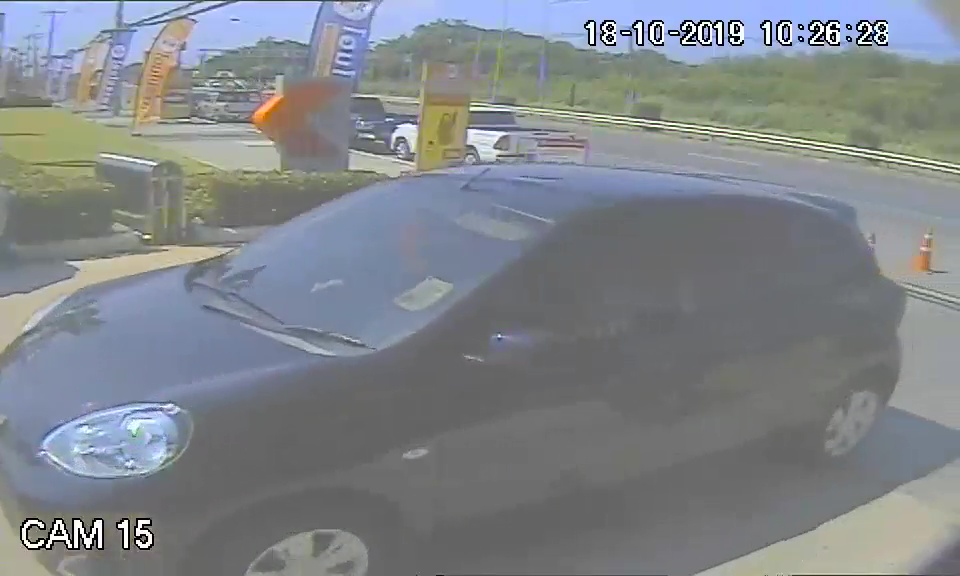sedan: (10, 164, 901, 574)
